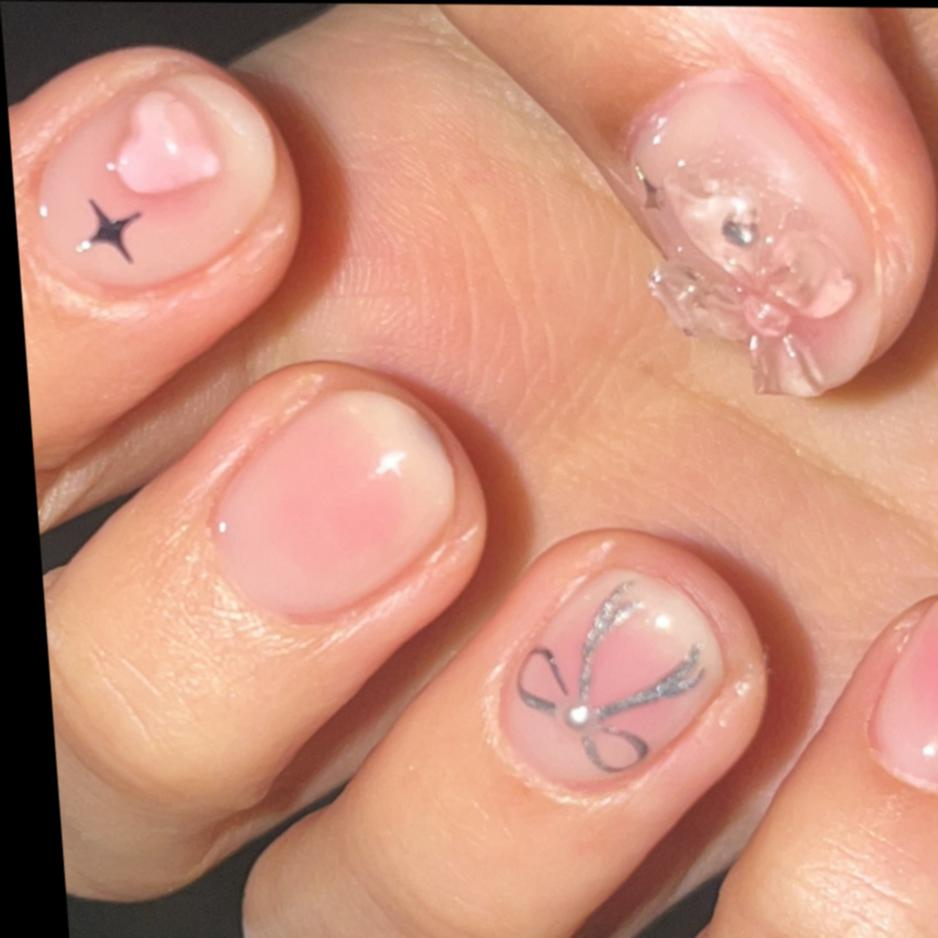nail: (26, 355, 517, 905), (851, 577, 938, 795)
